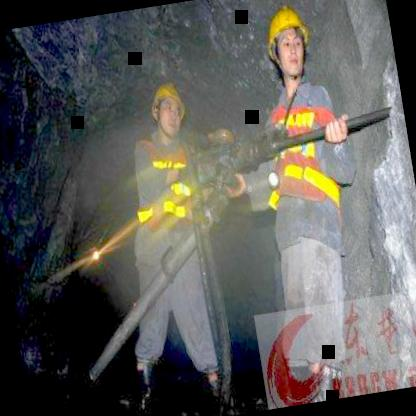helmet: (257, 0, 318, 88), (146, 75, 192, 142)
